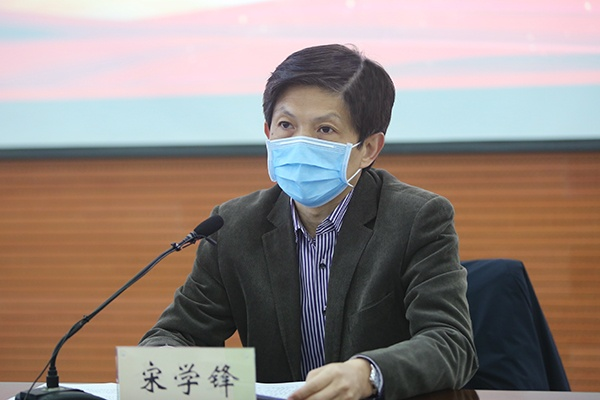correctlyWear: (262, 102, 384, 211)
